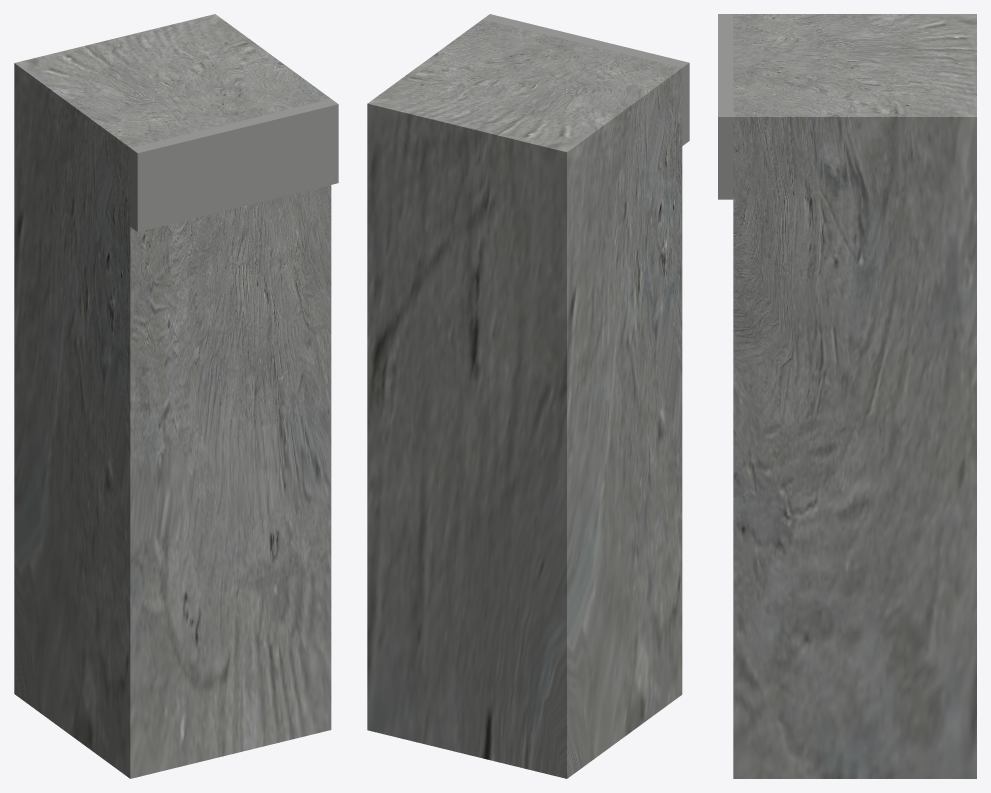
File: wall00-01.obj
The picture shows the model from 3 angles, left to right: view 1: azimuth 30°, elevation 25°; view 2: azimuth 150°, elevation 25°; view 3: azimuth 270°, elevation 25°; orthographic projection. The views are drawn at different scales.
Parts seen in each view (by area): view 1: Cube; view 2: Cube; view 3: Cube.
Boxes of the visible parts, x1,y1,x2,y2 form: Cube: (14, 14, 338, 778); Cube: (367, 14, 689, 778); Cube: (718, 14, 976, 778).
Bounding box in the file's own units: 2 × 6 × 2.13.
